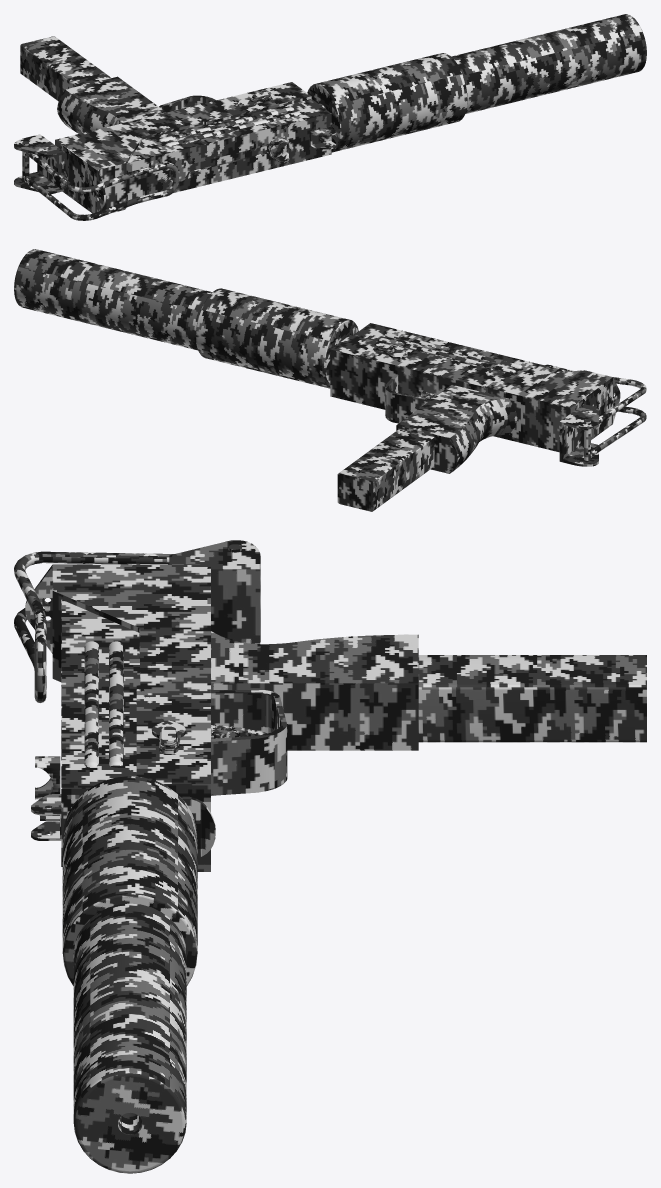
File: Mac-10_World.dae
3 views of the same model, one above another, from view 1: azimuth 30°, elevation 25°; view 2: azimuth 150°, elevation 25°; view 3: azimuth 270°, elevation 25° (orthographic). The views are drawn at different scales.
Visible parts, largest first — view 1: Mac-10, Magazine, Charging Handle; view 2: Mac-10, Magazine; view 3: Mac-10, Magazine.
Part boxes in pixels (bbox=[...]): Mac-10: bbox=[14, 14, 646, 220]; Magazine: bbox=[20, 36, 111, 101]; Charging Handle: bbox=[268, 137, 289, 162]; Mac-10: bbox=[14, 249, 646, 473]; Magazine: bbox=[337, 428, 434, 511]; Mac-10: bbox=[14, 540, 418, 1173]; Magazine: bbox=[418, 655, 646, 742].
Size of the model in its own units: 0.5734 by 0.2808 by 0.0598.
1 material, 1 textured.
